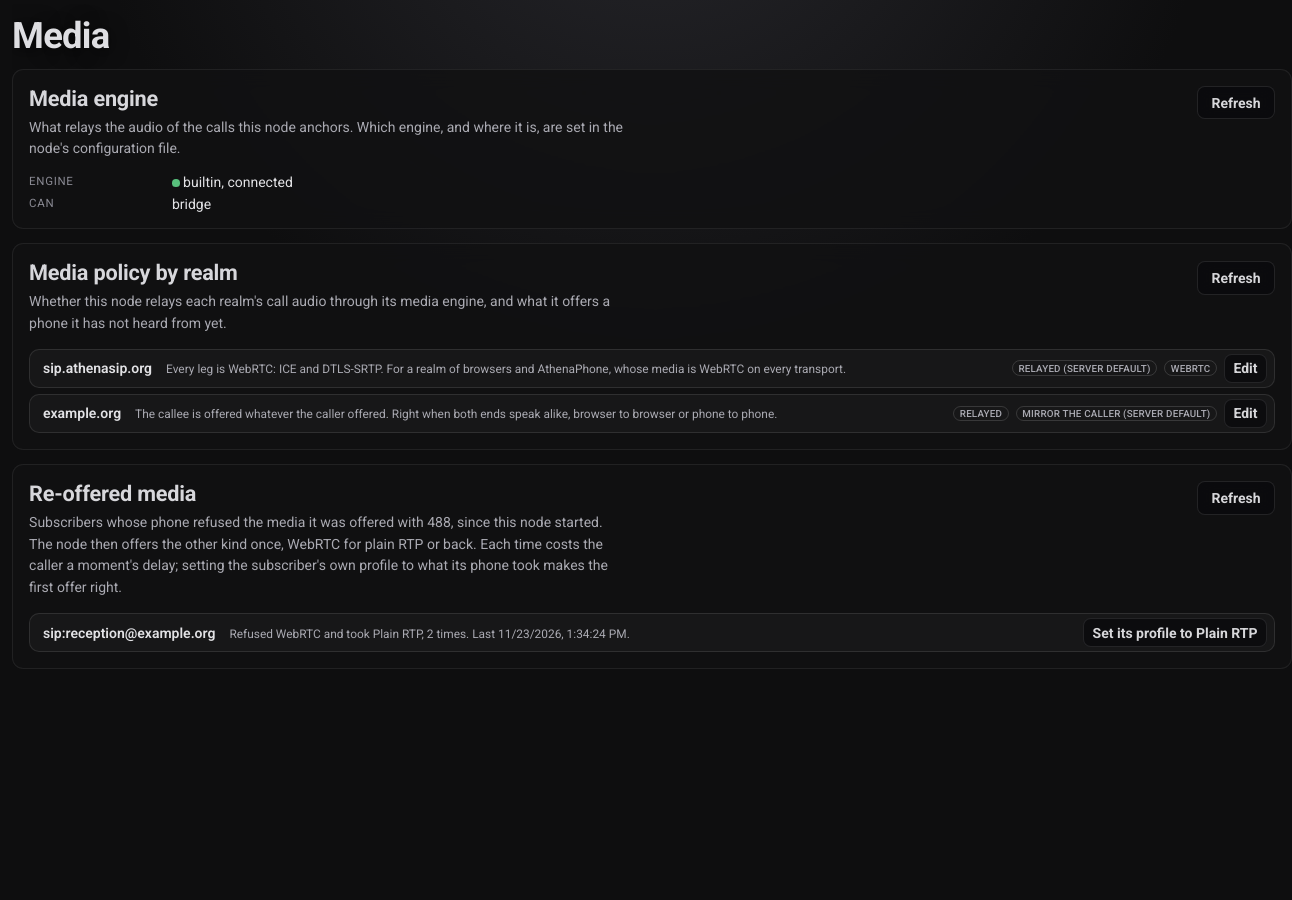
Test: MediaScreen › sets a re-offered subscriber’s profile to what its phone took, when asked
What coordinates should you click on to do the following:
click the button with aria-label "Set sip:reception@example.org to Plain RTP"
I would click on:
 (1175, 633)
Its box is [1083,618,1267,647].
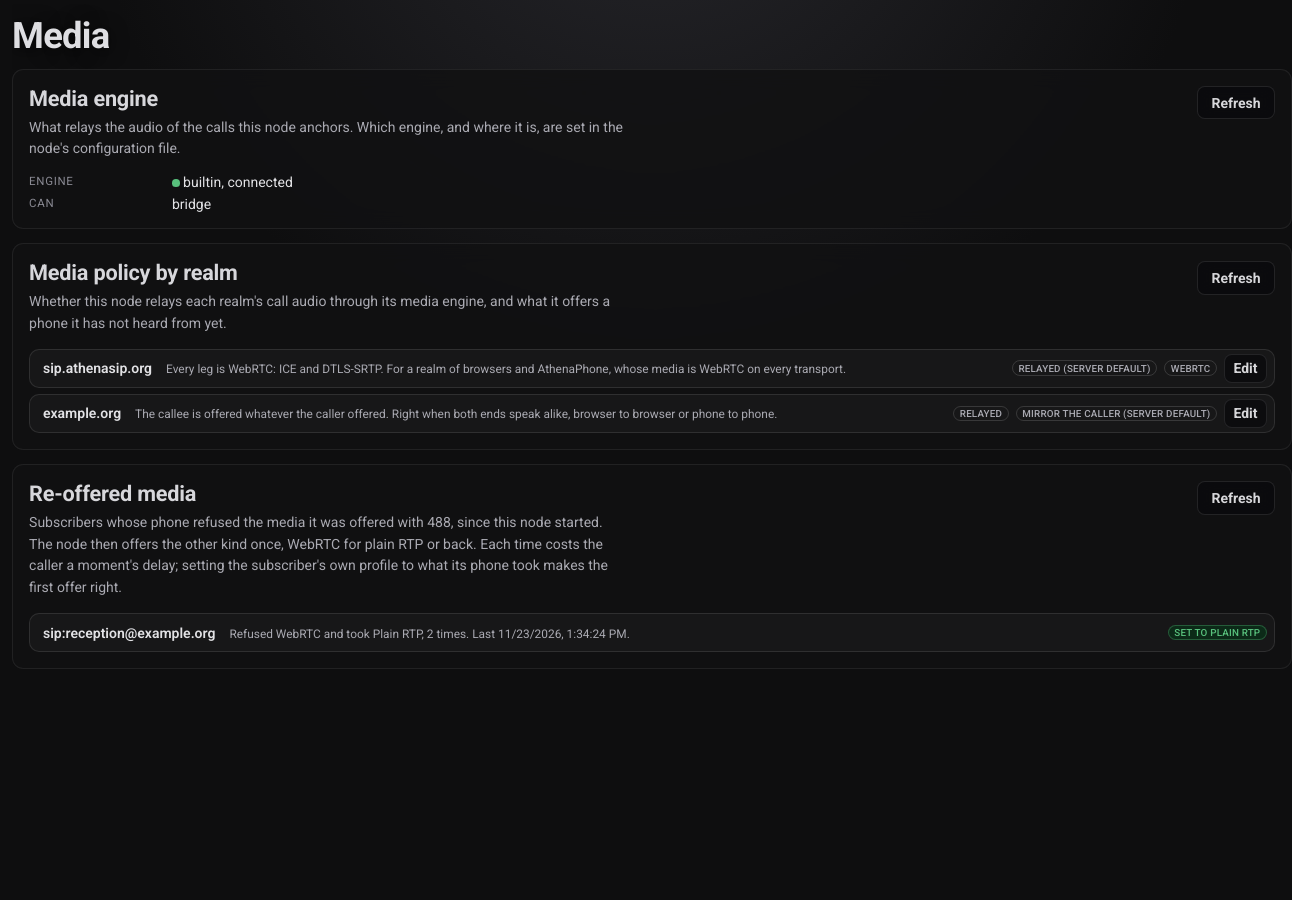
Result: the text "Set to Plain RTP" is shown at [1168,625,1267,640]
